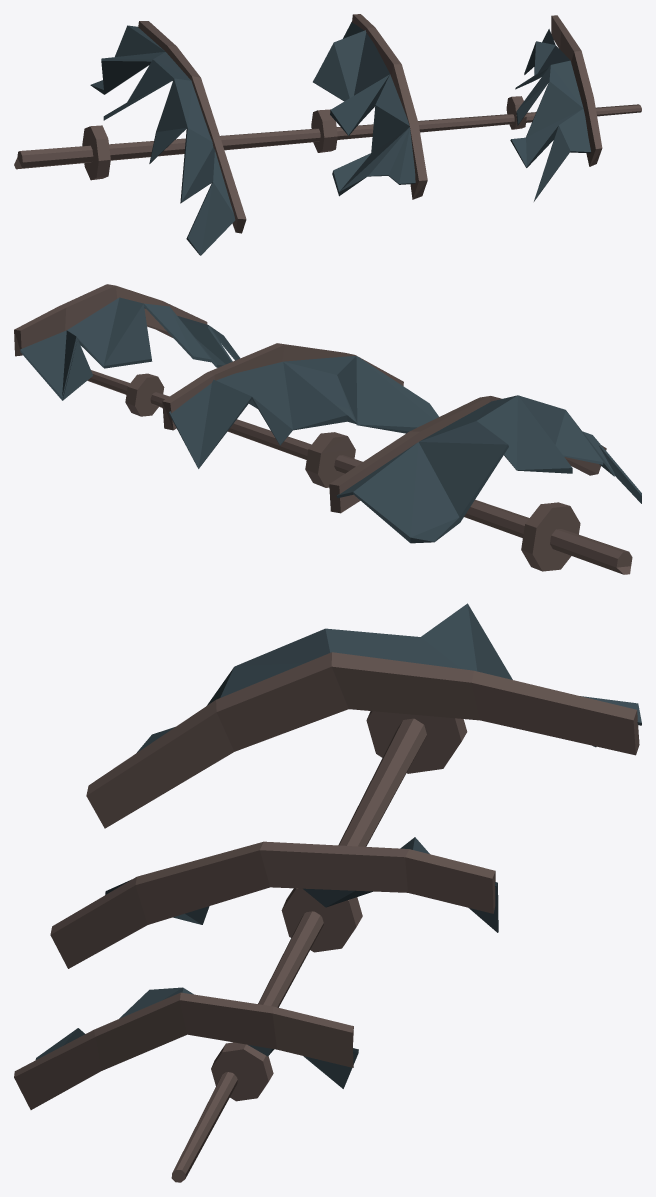
Rendered from Ship_025.fbx.
3 views of the same model, one above another, from view 1: azimuth 30°, elevation 25°; view 2: azimuth 150°, elevation 25°; view 3: azimuth 270°, elevation 25° (orthographic). The views are drawn at different scales.
Parts seen in each view (by area): view 1: Ship_025; view 2: Ship_025; view 3: Ship_025.
Boxes of the visible parts, <box> form: Ship_025: <box>14,14,641,255</box>; Ship_025: <box>14,284,641,574</box>; Ship_025: <box>14,603,641,1182</box>.
Bounding box in the file's own units: 1004 × 564 × 232.
1 material, 1 textured.
